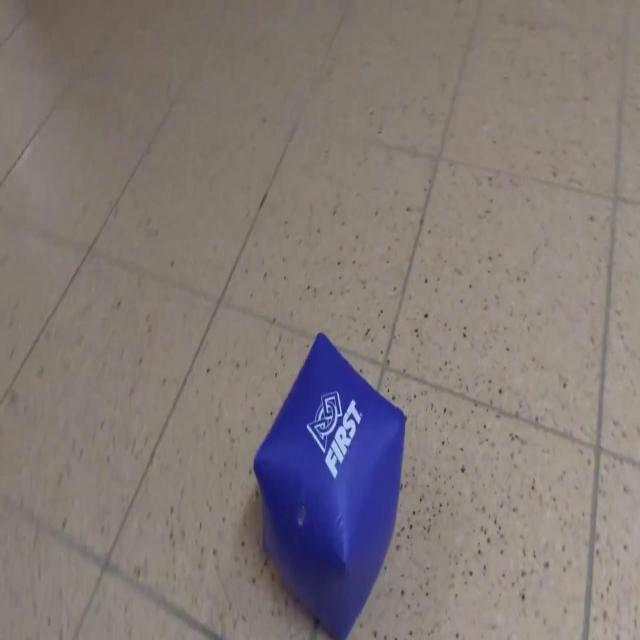frc_cube: (255, 332, 407, 638)
